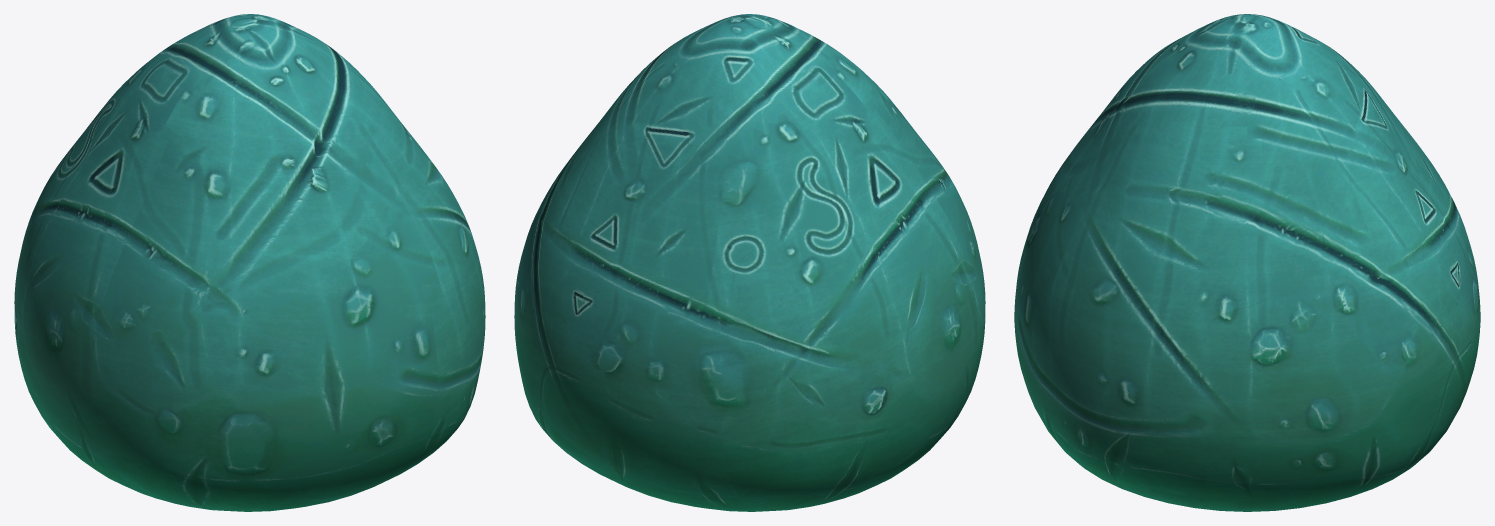
Rendered from stylized_dino_egg.fbx.
3 renders of one model, left to right at view 1: azimuth 30°, elevation 25°; view 2: azimuth 150°, elevation 25°; view 3: azimuth 270°, elevation 25°, orthographic.
Parts seen in each view (by area): view 1: node_id7; view 2: node_id7; view 3: node_id7.
Boxes of the visible parts, bbox=[...] form: node_id7: bbox=[14, 14, 485, 511]; node_id7: bbox=[514, 14, 985, 511]; node_id7: bbox=[1014, 14, 1480, 511].
Bounding box in the file's own units: 0.4735 × 0.512 × 0.4735.
1 material, 1 textured.
